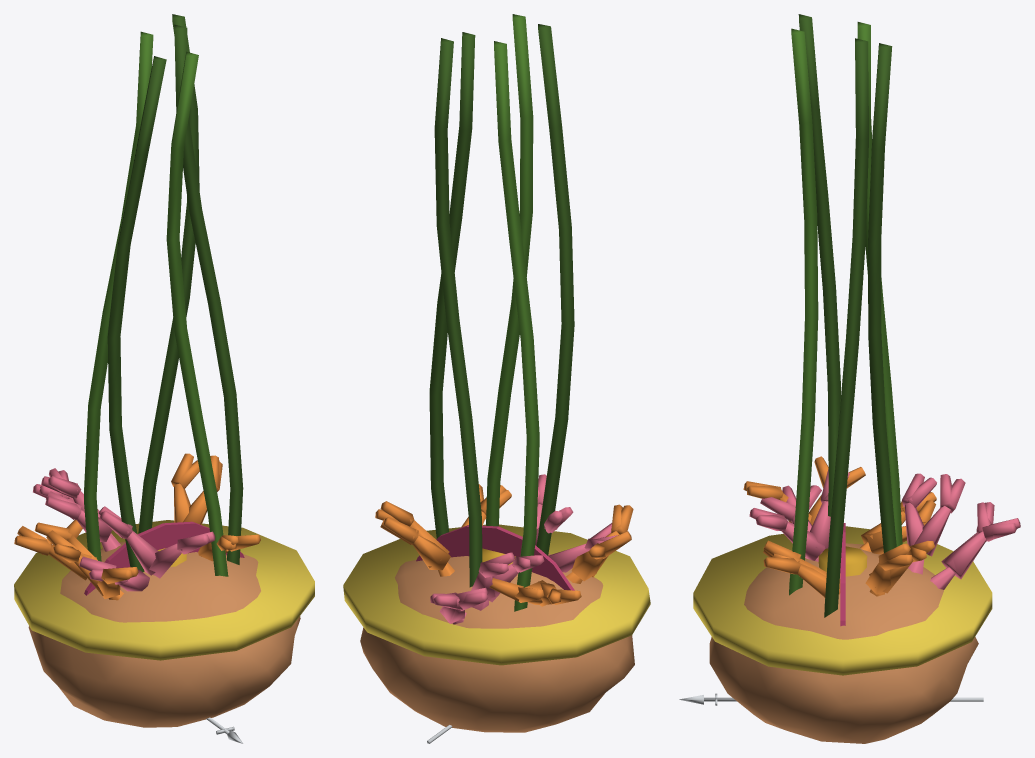
Rendered from reef.glb.
The picture shows the model from 3 angles, left to right: view 1: azimuth 30°, elevation 25°; view 2: azimuth 150°, elevation 25°; view 3: azimuth 270°, elevation 25°; orthographic projection. The views are drawn at different scales.
Visible parts, largest first — view 1: reef_kelp, reef_brain, reef_table, reef_branch, reef_fan; view 2: reef_kelp, reef_brain, reef_table, reef_branch, reef_fan; view 3: reef_kelp, reef_brain, reef_table, reef_branch, reef_sponge.
Boxes of the visible parts, left/top/right/bottom form: reef_kelp: left=84, top=14, right=243, bottom=576; reef_brain: left=28, top=541, right=300, bottom=727; reef_table: left=14, top=520, right=314, bottom=660; reef_branch: left=14, top=453, right=260, bottom=600; reef_fan: left=84, top=521, right=244, bottom=595; reef_kelp: left=429, top=14, right=574, bottom=611; reef_brain: left=360, top=553, right=634, bottom=732; reef_table: left=343, top=524, right=650, bottom=665; reef_branch: left=375, top=474, right=633, bottom=624; reef_fan: left=416, top=525, right=574, bottom=590; reef_kelp: left=789, top=14, right=902, bottom=617; reef_brain: left=709, top=543, right=978, bottom=743; reef_table: left=693, top=526, right=992, bottom=675; reef_branch: left=743, top=456, right=1020, bottom=597; reef_sponge: left=818, top=546, right=867, bottom=576.
Bounding box in the file's own units: 1.8 × 4.36 × 1.94.
